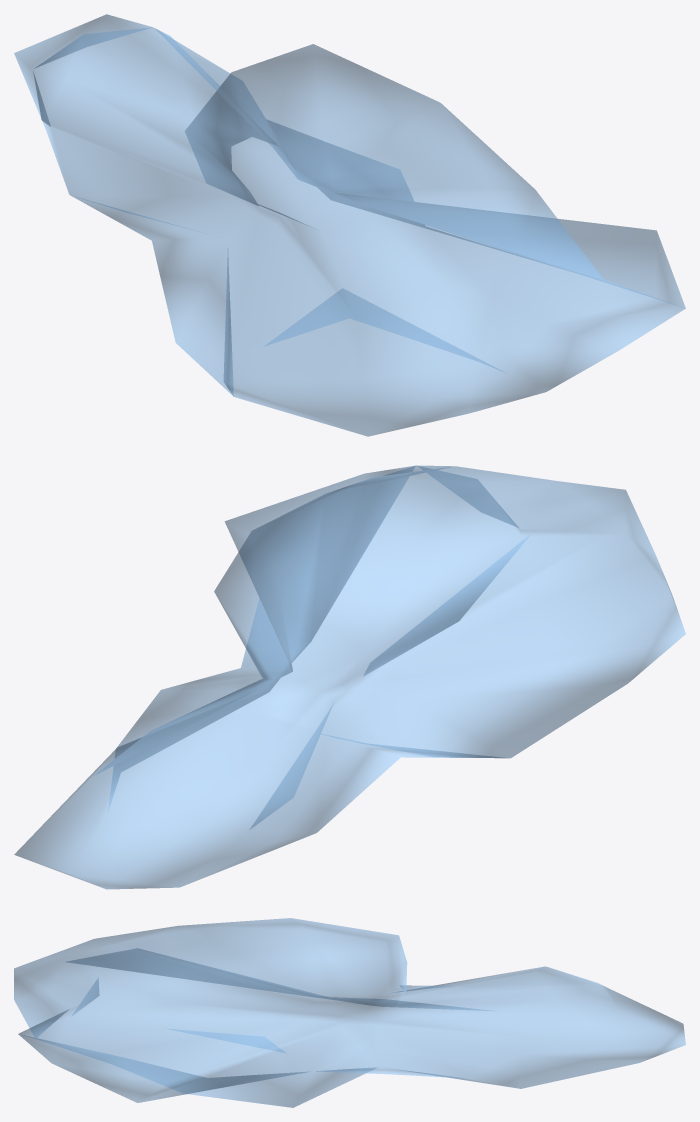
Rendered from tmiscrusr_shield.gltf.
3 renders of one model, top to bottom at view 1: azimuth 30°, elevation 25°; view 2: azimuth 150°, elevation 25°; view 3: azimuth 270°, elevation 25°, orthographic. The views are drawn at different scales.
Visible parts, largest first — view 1: tmiscrusr.shield; view 2: tmiscrusr.shield; view 3: tmiscrusr.shield.
Part boxes in pixels (bbox=[...]): tmiscrusr.shield: bbox=[14, 14, 685, 436]; tmiscrusr.shield: bbox=[14, 465, 685, 889]; tmiscrusr.shield: bbox=[14, 918, 685, 1107].
Size of the model in its own units: 10.31 by 4.44 by 19.55.
